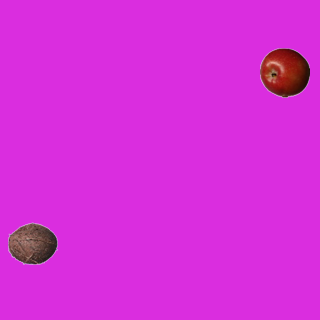Apple Braeburn: (259, 47, 309, 97)
Cocos: (7, 218, 57, 268)
